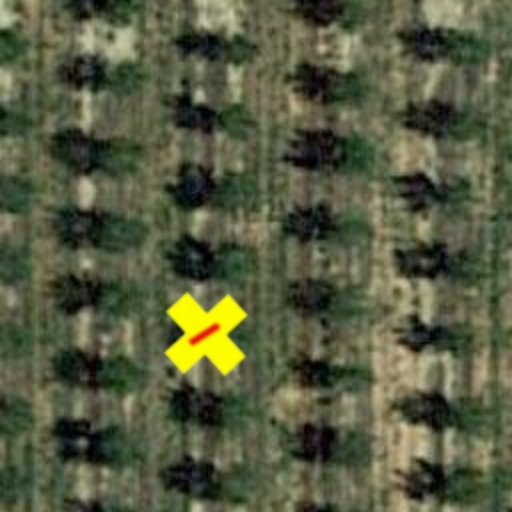cross: (144, 272, 268, 396)
